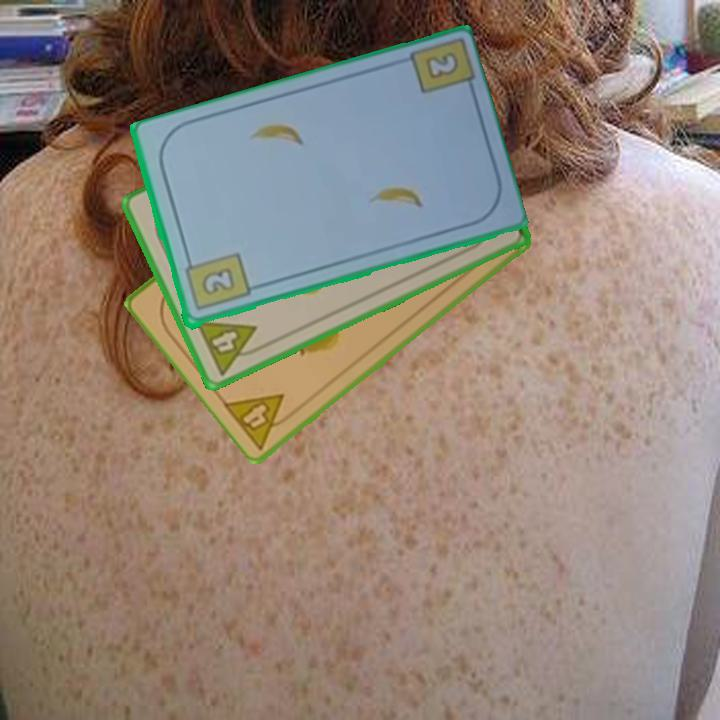2b: (181, 250, 252, 314), (421, 48, 462, 83)
4p: (219, 390, 302, 453), (192, 317, 268, 378)
